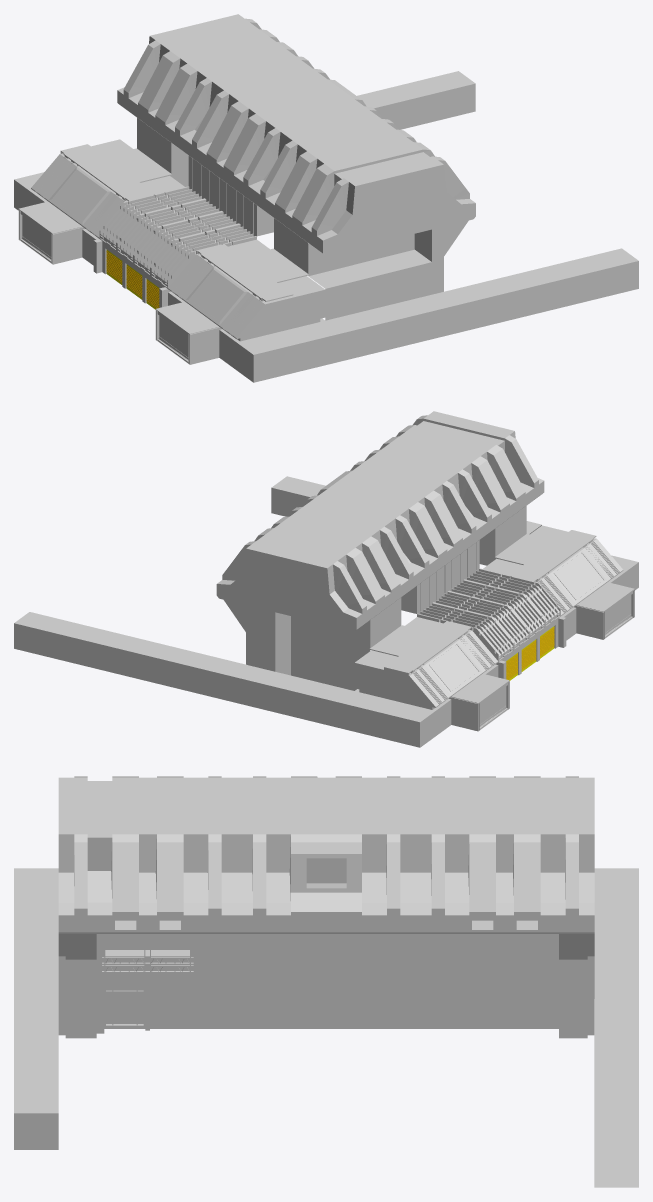
File: Factory.fbx
The picture shows the model from 3 angles, top to bottom: view 1: azimuth 30°, elevation 25°; view 2: azimuth 150°, elevation 25°; view 3: azimuth 270°, elevation 25°; orthographic projection. The views are drawn at different scales.
Visible parts, largest first — view 1: Cube.332, Cube.280, Cube.278, Cube.279, Cylinder.010, Cylinder.009, Cube.283; view 2: Cube.332, Cube.278, Cube.280, Cube.279, Cylinder.009, Cylinder.010, Cube.283; view 3: Cube.332, Cube.278, Cube.280.
Boxes of the visible parts, x1,y1,x2,y2 form: Cube.332: (117, 14, 475, 320); Cube.280: (156, 218, 638, 382); Cube.278: (14, 71, 475, 265); Cube.279: (99, 156, 273, 288); Cylinder.010: (18, 201, 85, 264); Cylinder.009: (155, 302, 221, 364); Cube.283: (93, 239, 170, 307); Cube.332: (216, 411, 544, 675); Cube.278: (14, 597, 509, 747); Cube.280: (271, 476, 638, 640); Cube.279: (401, 540, 560, 661); Cylinder.009: (574, 582, 634, 639); Cylinder.010: (449, 674, 509, 731); Cube.283: (495, 616, 566, 679); Cube.332: (58, 776, 594, 1038); Cube.278: (594, 868, 638, 1187); Cube.280: (14, 868, 58, 1149).
Bounding box in the file's own units: 4800 × 1500 × 4200.
